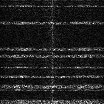wifi: (1, 85, 104, 90), (1, 99, 104, 104), (1, 4, 104, 7), (1, 21, 104, 24), (1, 48, 104, 51), (1, 54, 104, 57), (1, 75, 104, 78), (1, 65, 104, 68)
